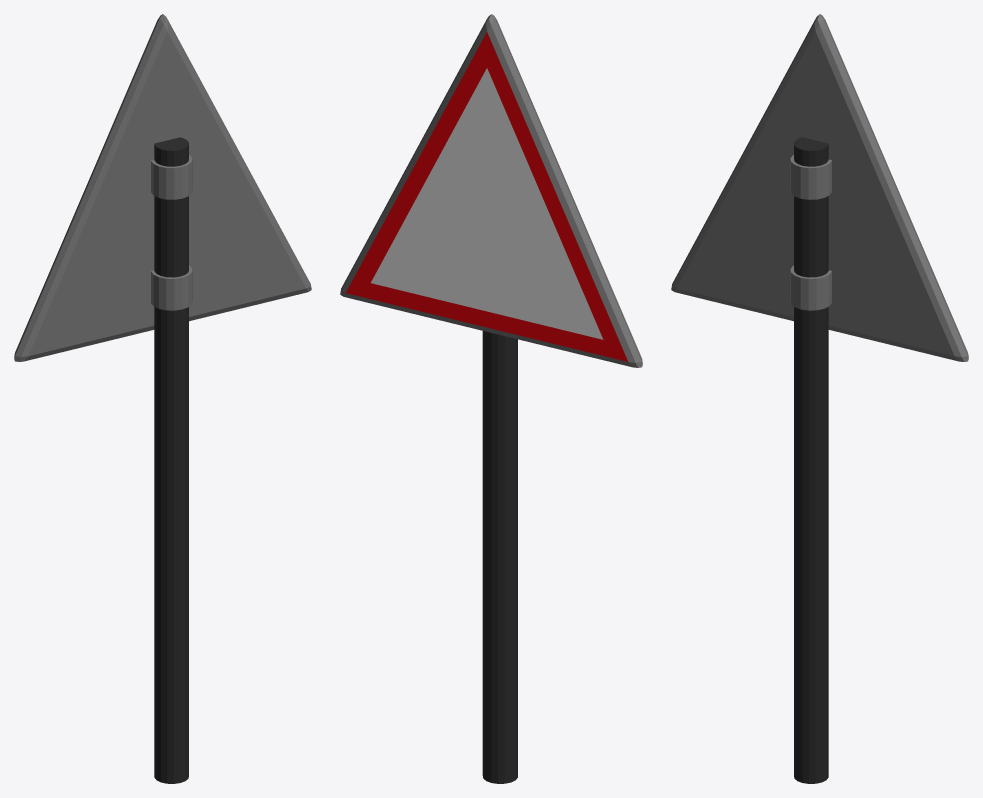
The model's file is triangle_road_sign.fbx.
The picture shows the model from 3 angles, left to right: view 1: azimuth 30°, elevation 25°; view 2: azimuth 150°, elevation 25°; view 3: azimuth 330°, elevation 25°; orthographic projection.
Visible parts, largest first — view 1: Plane, Cylinder.001; view 2: Plane, Cylinder.001; view 3: Plane, Cylinder.001.
Boxes of the visible parts, <box> form: Plane: <box>14,14,311,361</box>; Cylinder.001: <box>151,137,192,783</box>; Plane: <box>340,14,642,367</box>; Cylinder.001: <box>482,331,517,783</box>; Plane: <box>671,14,968,361</box>; Cylinder.001: <box>790,137,831,783</box>.
Size of the model in its own units: 196 by 478 by 27.
